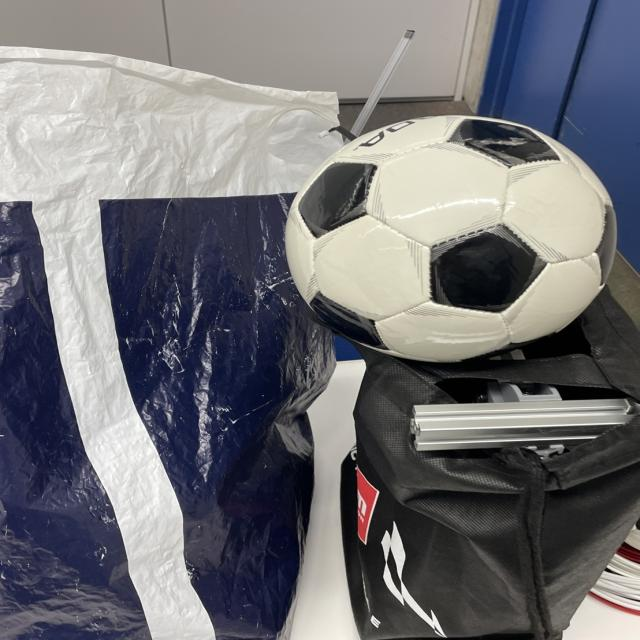ball: (288, 116, 616, 364), (291, 116, 618, 364)
